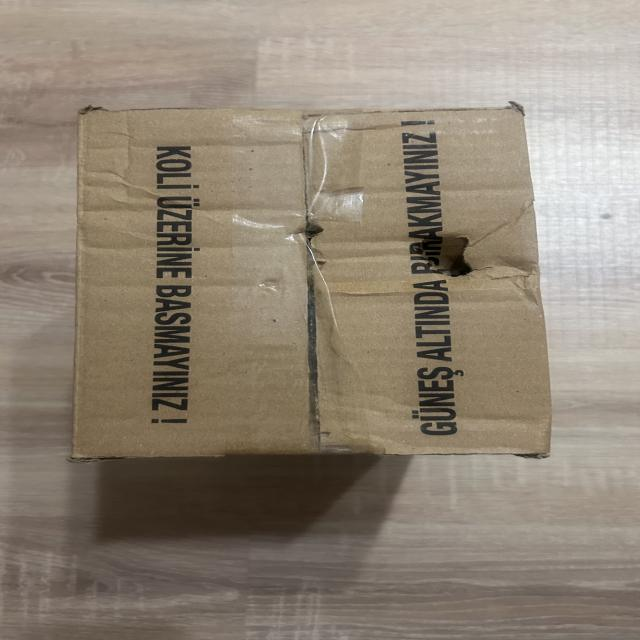damaged: (74, 98, 568, 460), (409, 219, 488, 300)
